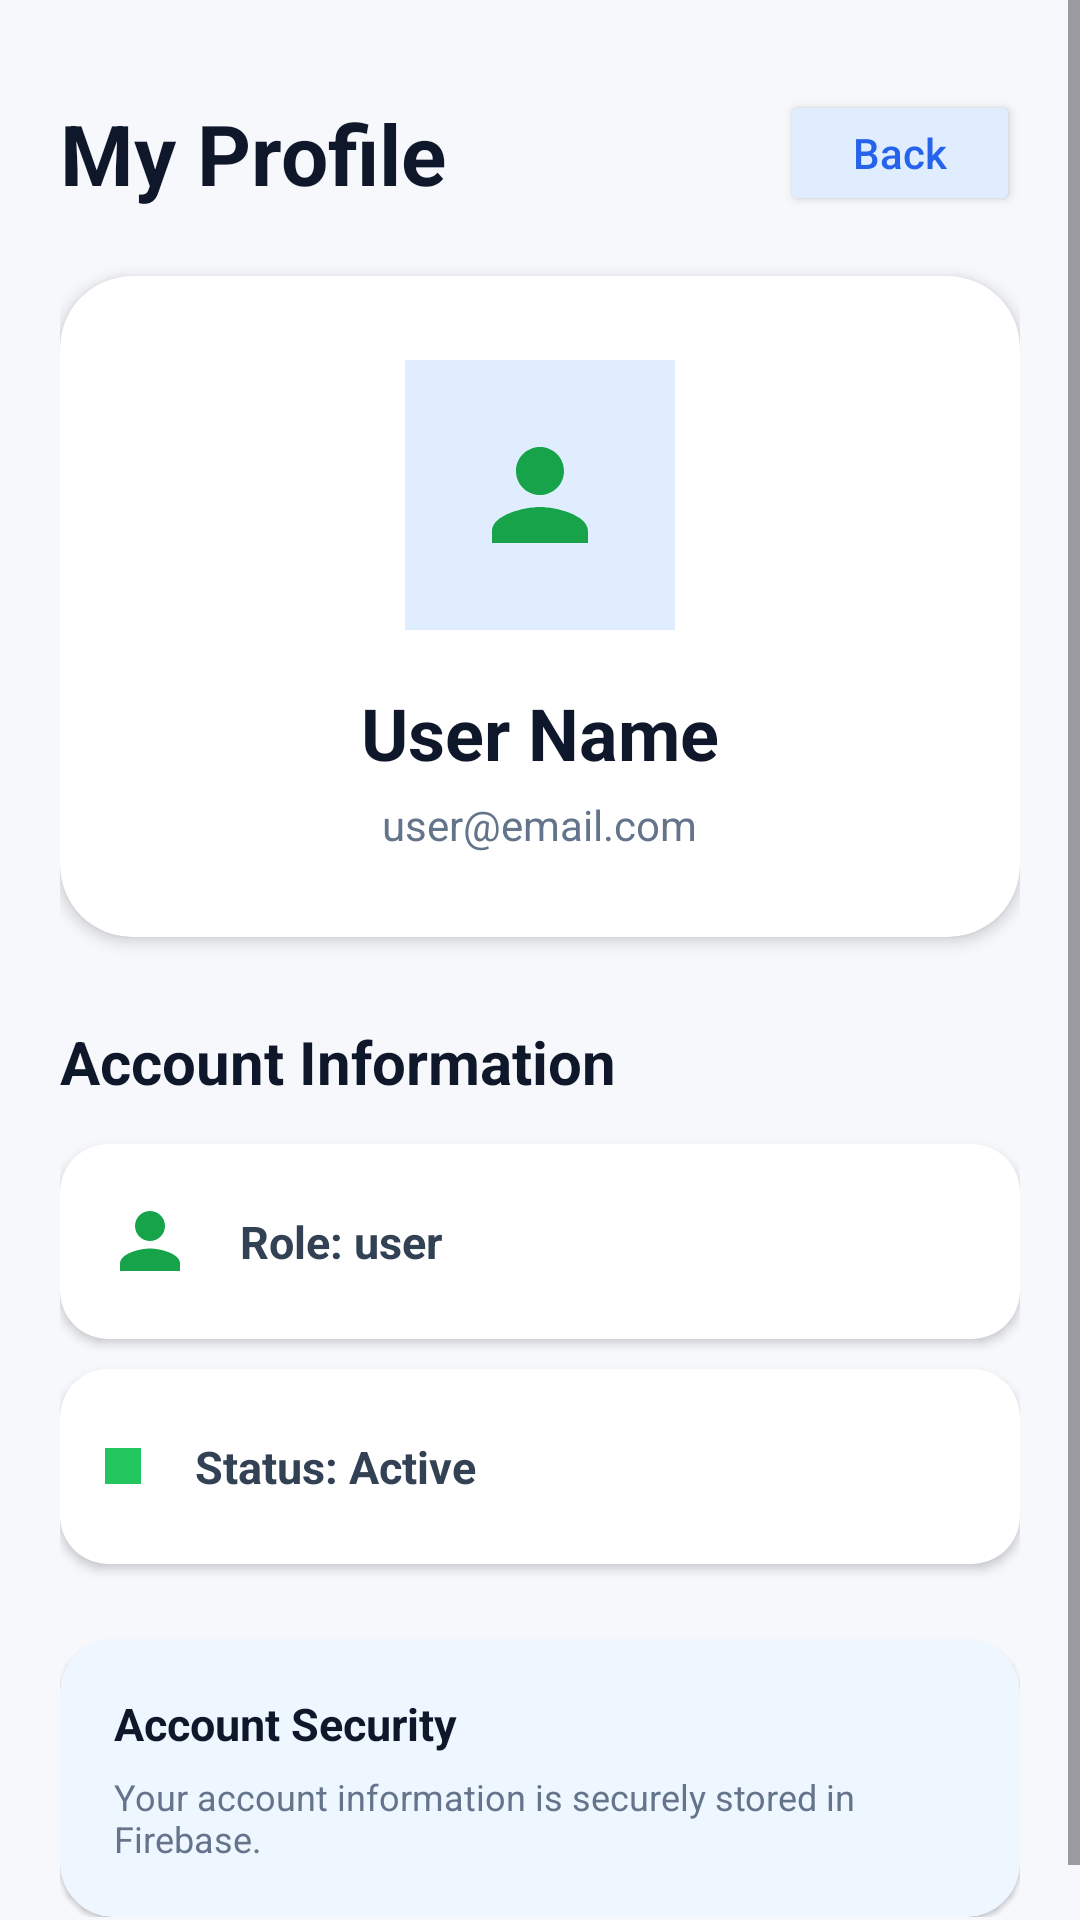

Locate icon controls on the screen. Image size 1080 × 1920, boxes as region(x1, y1, x2, y2).
Profile: region(492, 447, 588, 543)
